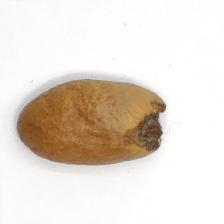NG: (121, 90, 168, 159)
